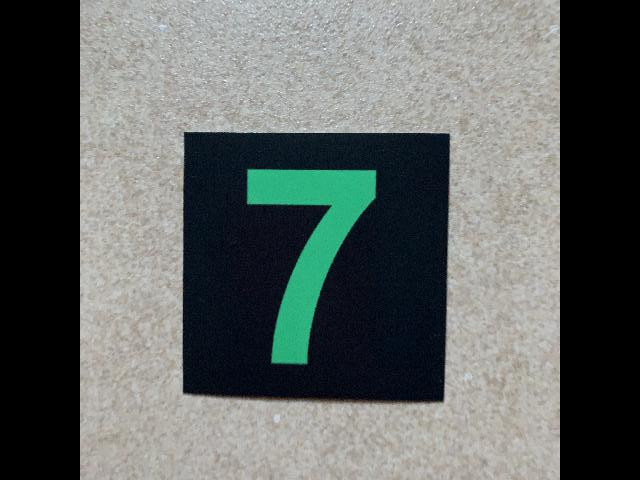seven: (181, 130, 452, 405)
